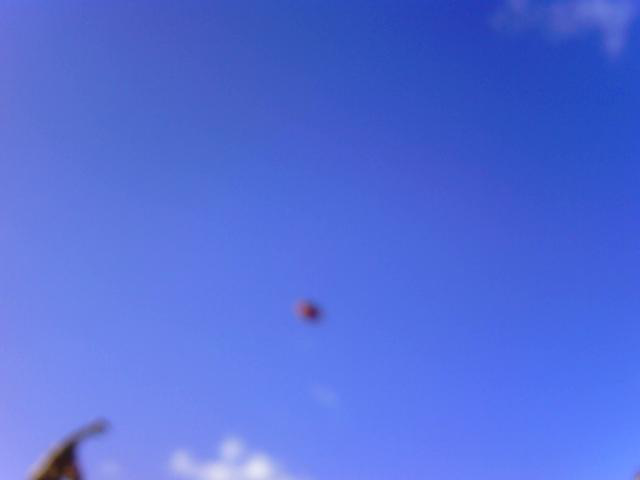football: (297, 294, 325, 330)
